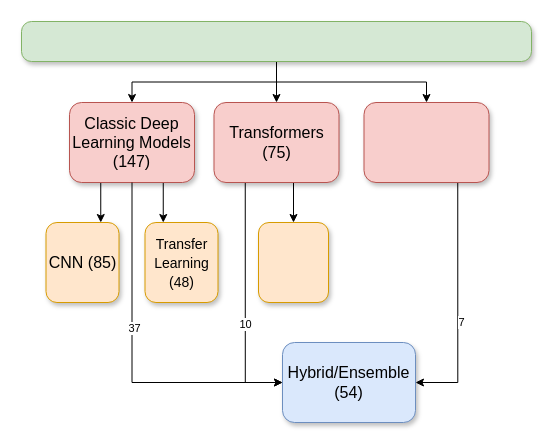
This 555x447 diagram has some shape labels left out. Each missing label, with the centre of its shape:
AI Models in Breast Cancer Diagnosis on Medical Images (372): pixel 277 42
Radiomics Based Models (63): pixel 427 144
ViT (52): pixel 294 264
